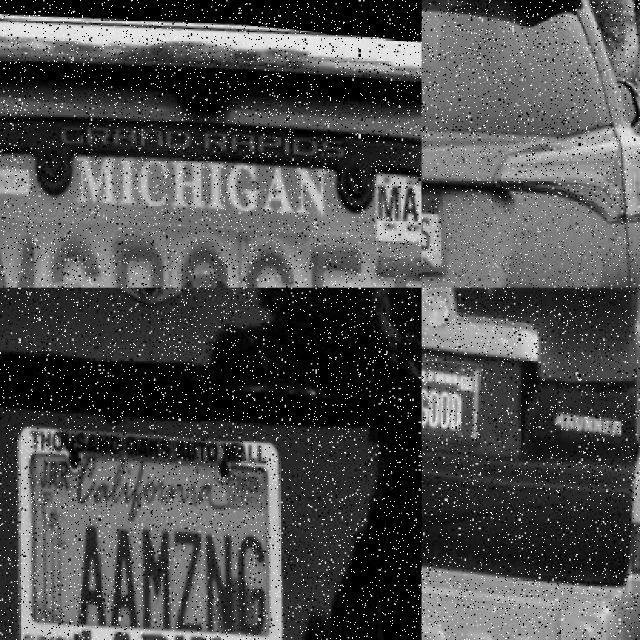LicensePlate: (0, 100, 422, 288), (16, 403, 282, 640), (422, 345, 482, 450), (421, 182, 448, 268)
